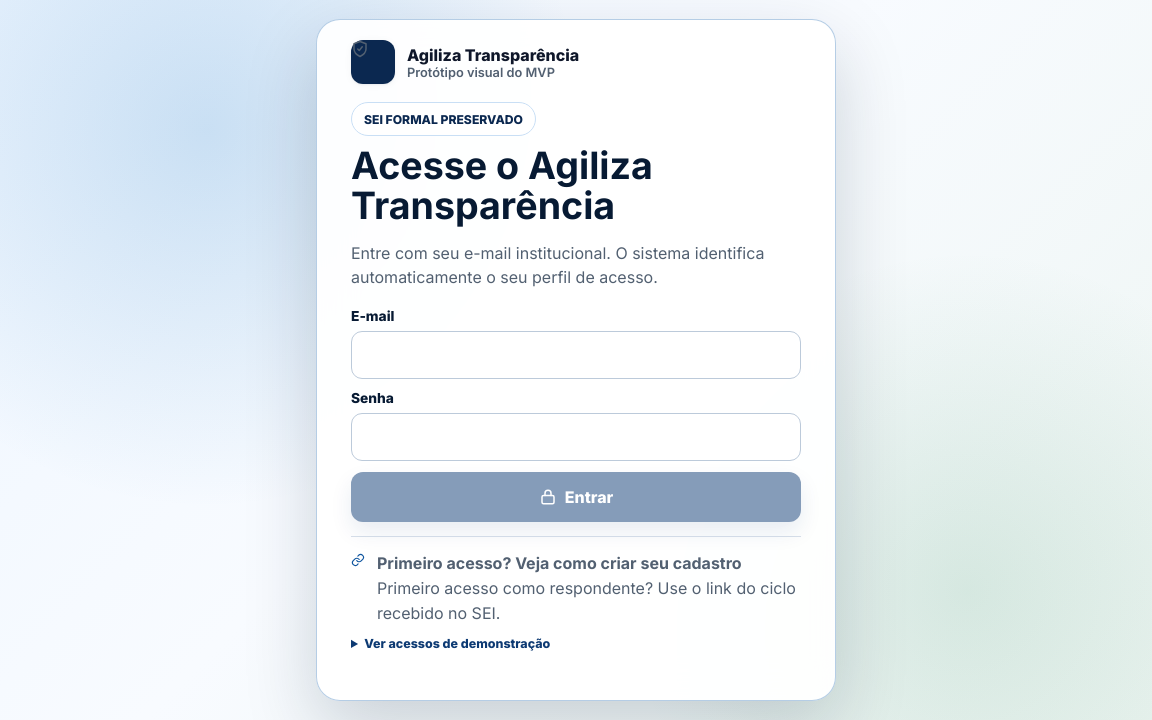
Test: Agiliza Transparência › respondente autenticado vê somente coletas próprias e não vê o conceito de ciclo
The width and height of the screenshot is (1152, 720).
In the field labelled "E-mail": (576, 355) x1=351 y1=331 x2=801 y2=379, type "joao.lima@seduc.ma.gov.br"
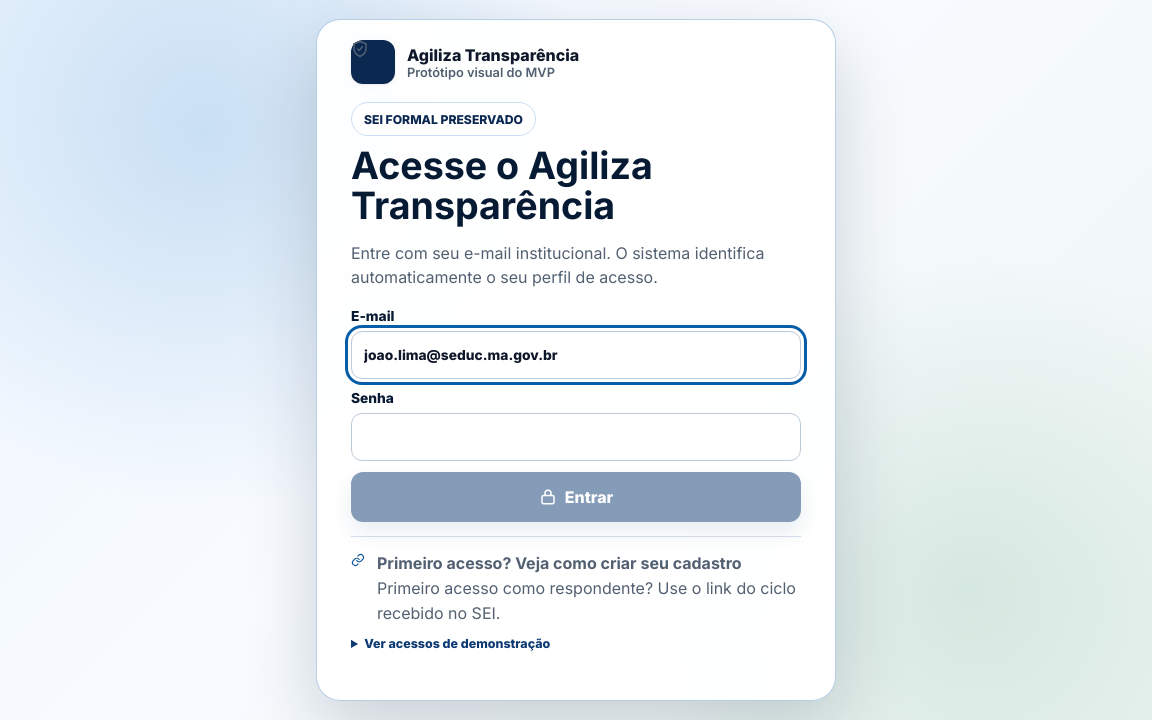
In the password field labelled "Senha": (576, 437) x1=351 y1=413 x2=801 y2=461, type "senha-simulada"
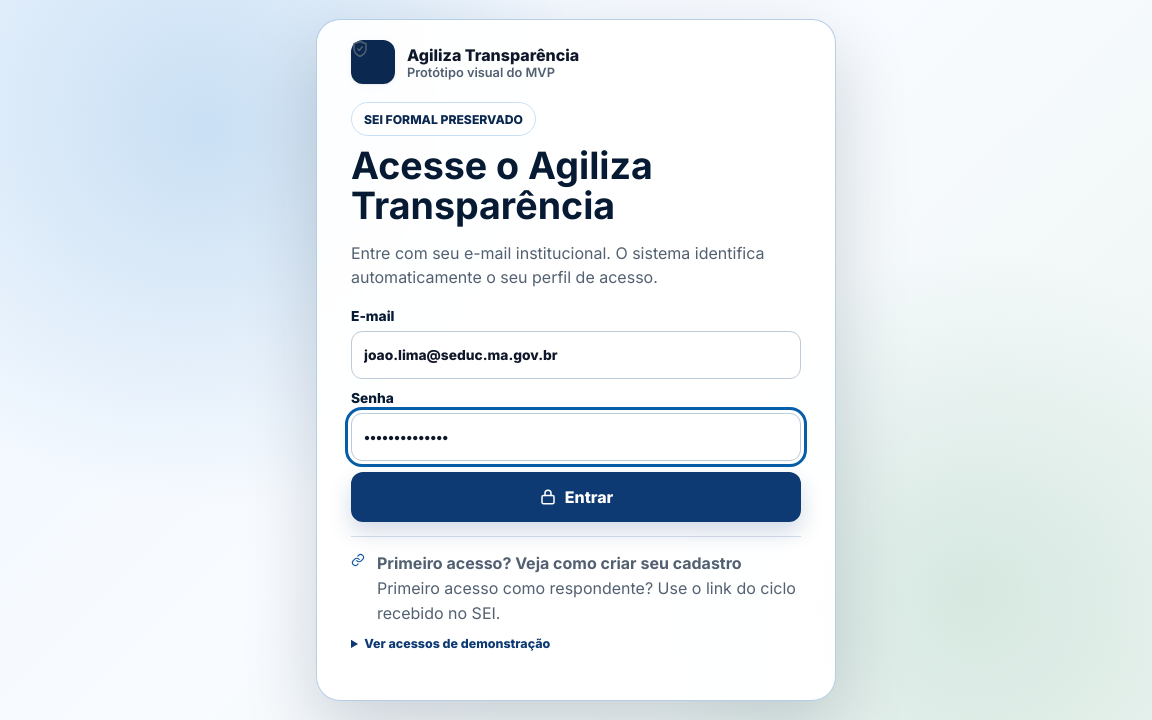
Click the button "Entrar": (576, 497) x1=351 y1=472 x2=801 y2=522
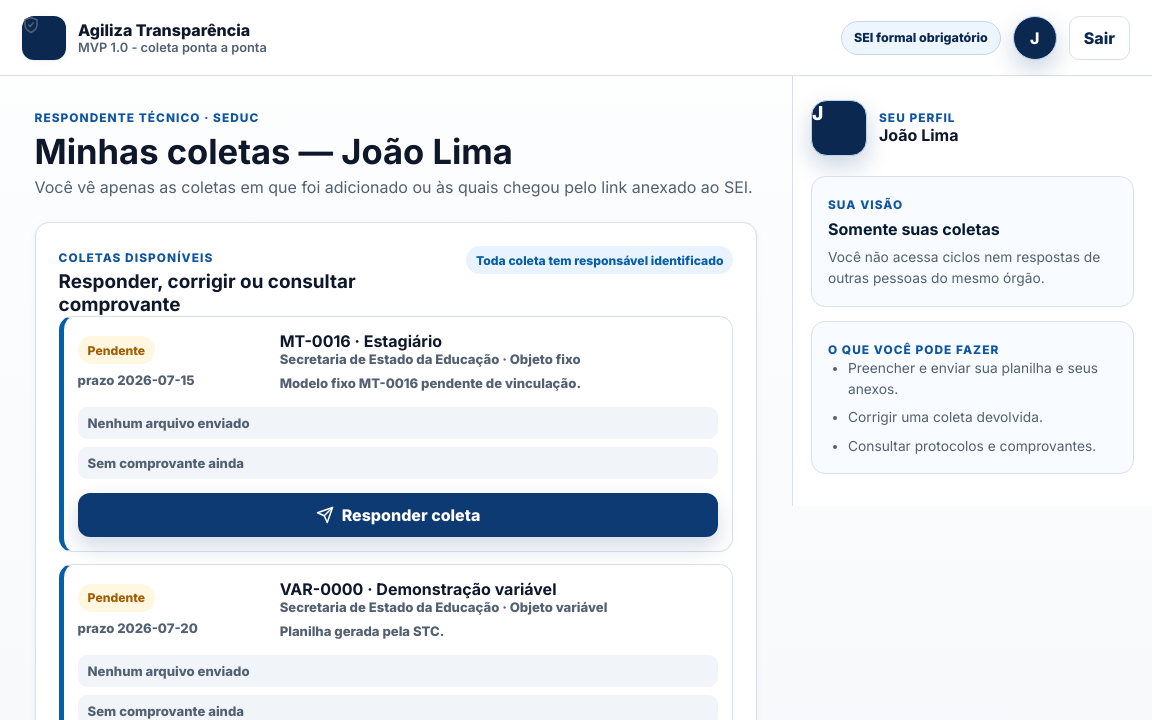
Now the element named "Orientações do respondente" is shown, box x1=792 y1=76 x2=1151 y2=506
Now the heading "Minhas coletas — João Lima" is shown, box x1=34 y1=131 x2=513 y2=172
Now the text "MT-0016 · Estagiário" is shown, box x1=280 y1=331 x2=442 y2=351
